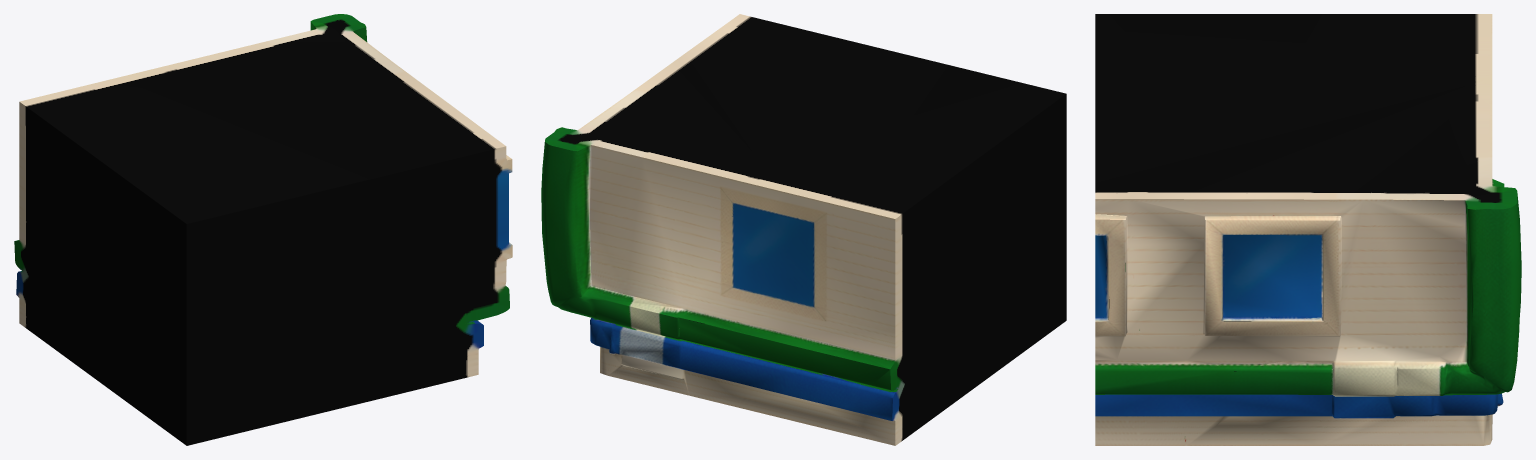
File: 8-upper-walls-back-right.fbx
3 views of the same model, side by side, from view 1: azimuth 30°, elevation 25°; view 2: azimuth 150°, elevation 25°; view 3: azimuth 270°, elevation 25° (orthographic). The views are drawn at different scales.
Visible parts, largest first — view 1: upper-walls-back-right; view 2: upper-walls-back-right; view 3: upper-walls-back-right.
Part boxes in pixels (left/top/right/bottom): upper-walls-back-right: left=14, top=14, right=512, bottom=445; upper-walls-back-right: left=541, top=14, right=1066, bottom=445; upper-walls-back-right: left=1095, top=14, right=1521, bottom=445.
Size of the model in its own units: 9147 by 5681 by 8347.
Materials: 1 (1 with a texture image).
